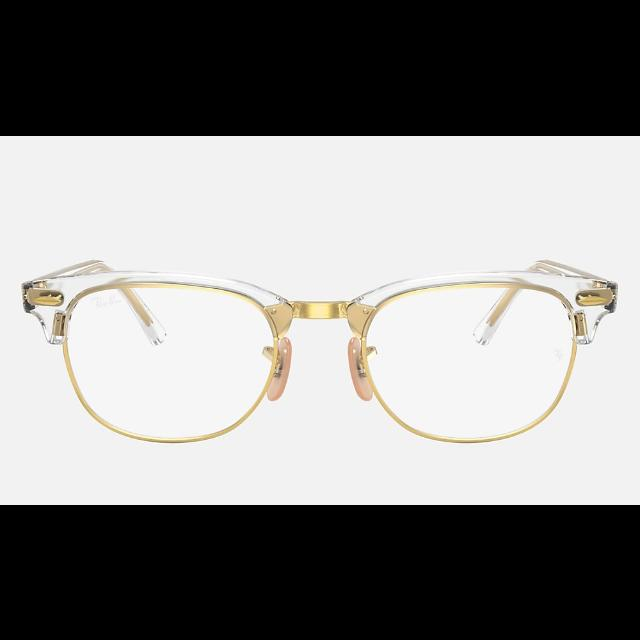glasses: (21, 257, 618, 443)
